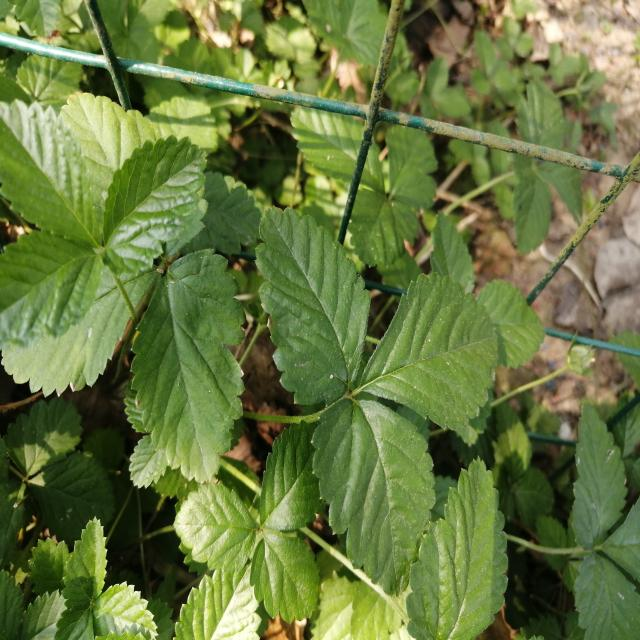Mock_strawberry: (247, 198, 496, 574)
